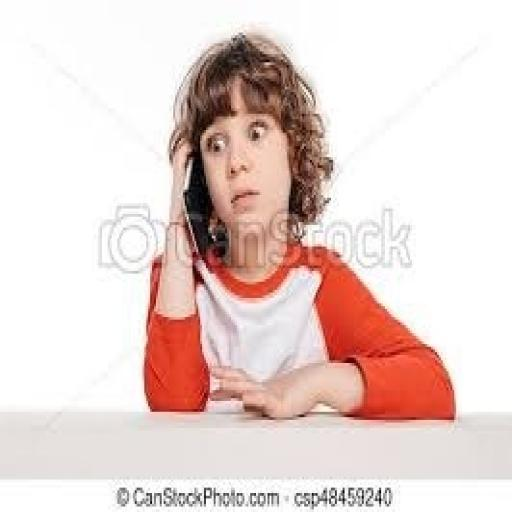texting: (141, 30, 458, 422)
